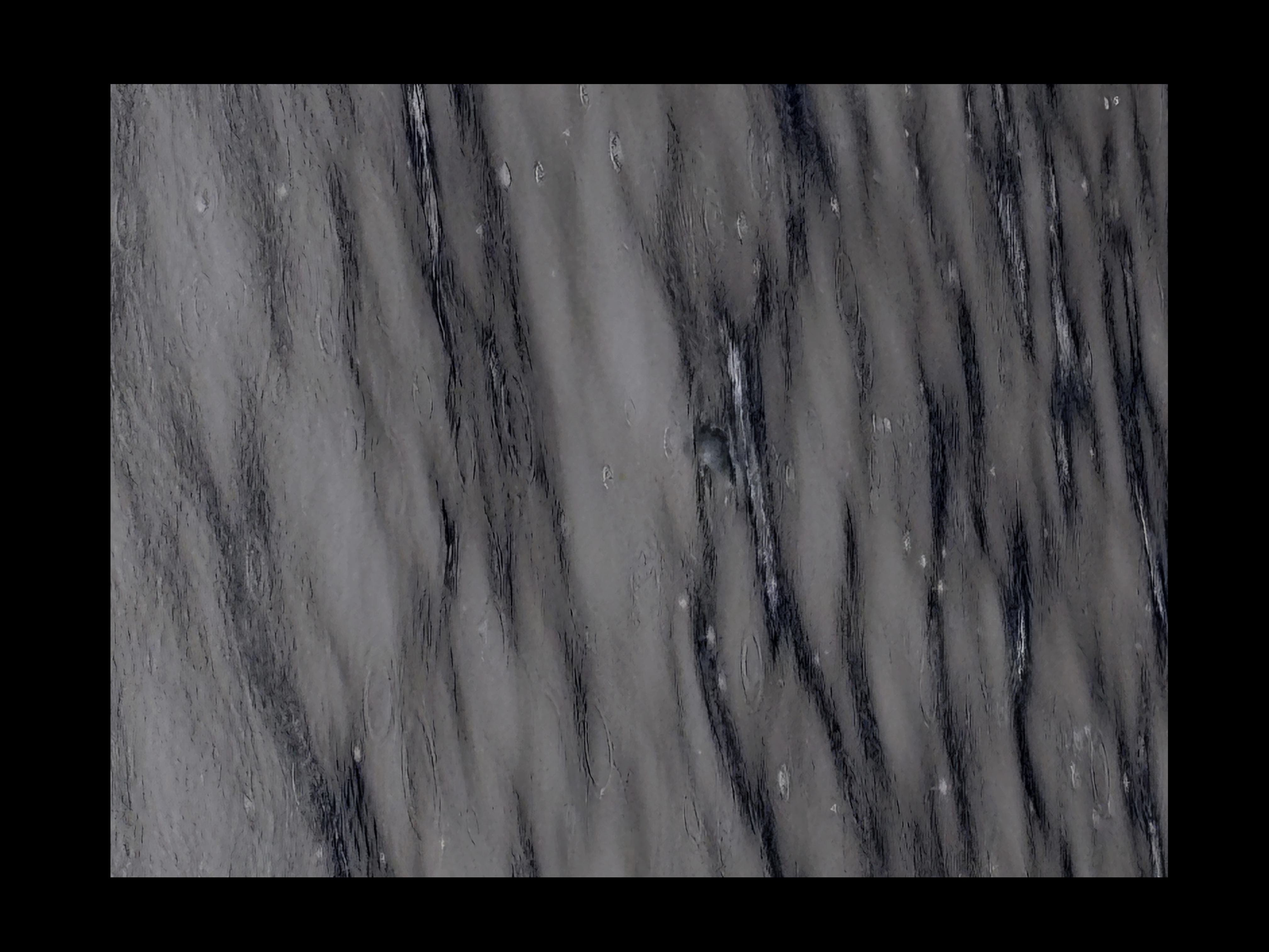Plastic wastes: (1082, 403, 1130, 457)
